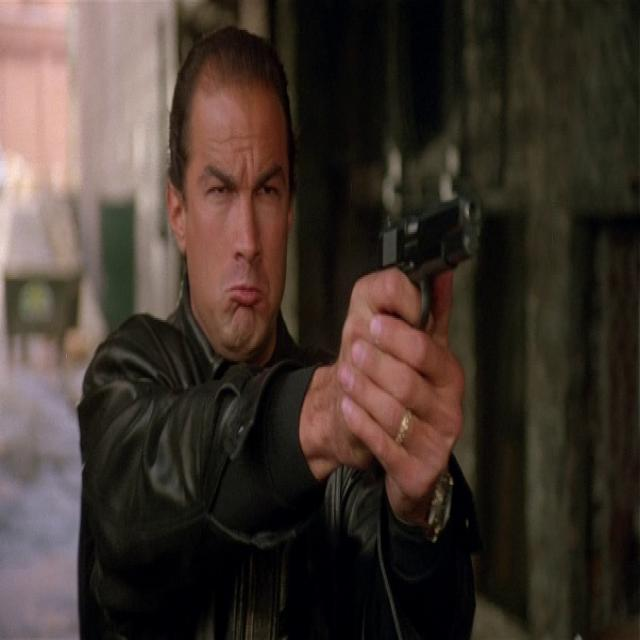weapons: (368, 176, 485, 410)
